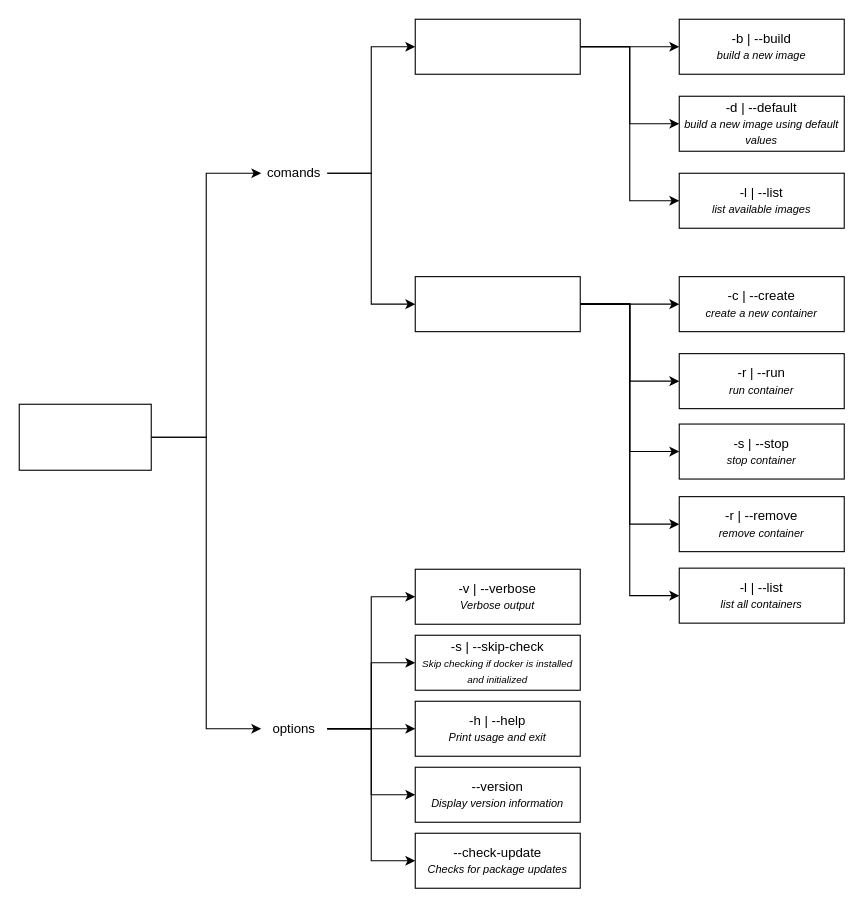
This 864x908 diagram has some shape labels left out. Each missing label, with the box of its shape:
ctr manage containers: (414, 276, 580, 332)
env/setup: (18, 403, 151, 470)
img manage images: (414, 18, 580, 74)
